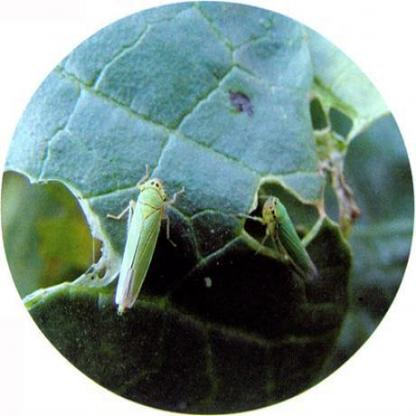Green-Leafhopper: (100, 166, 188, 320), (245, 188, 320, 285)
